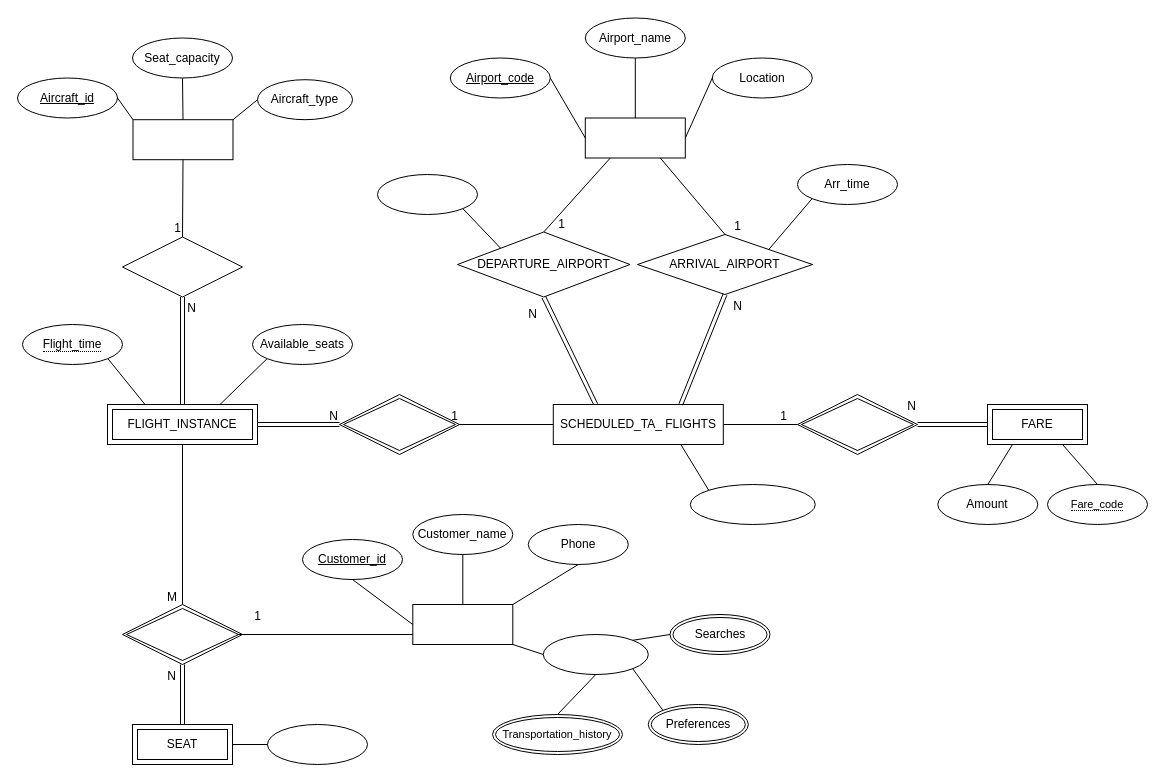
Image size: 1165x782. Some labels were removed from this diagram. The centre of each missing label's shape, as x and y in pixels:
"AIRCRAFT" goes at point 182,139.
"AIRPORT" goes at point 634,137.
"ASSIGNED" goes at point 182,266.
"CUSTOMER" goes at point 462,624.
"Data" goes at point 595,654.
"Dep_time" goes at point 427,194.
"Flight_code" goes at point 752,504.
"HAS" goes at point 857,424.
"INSTANCE_OF" goes at point 399,424.
"RESERVATION" goes at point 182,634.
"Seat_number" goes at point 317,744.
